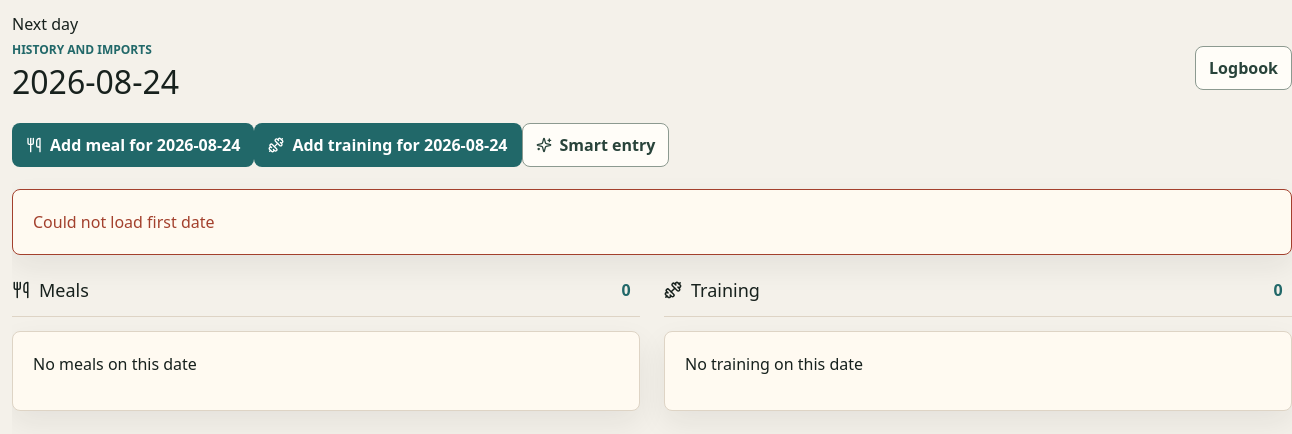
it: logbook task routes › clears failed date state while navigating to and rendering another date
Expected: the text "Could not load first date" is shown, [12,189,1291,255]
Click the link "Next day". click: (45, 24)
box: [12,13,78,35]
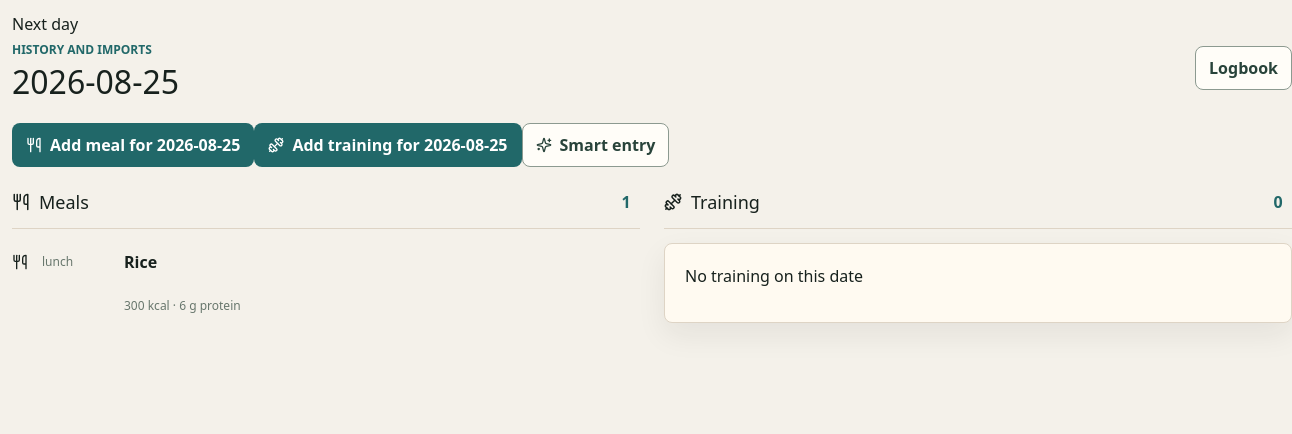
Expected: the text "Rice" is shown, [124,251,157,273]
Expected: the text "Could not load first date" is gone
